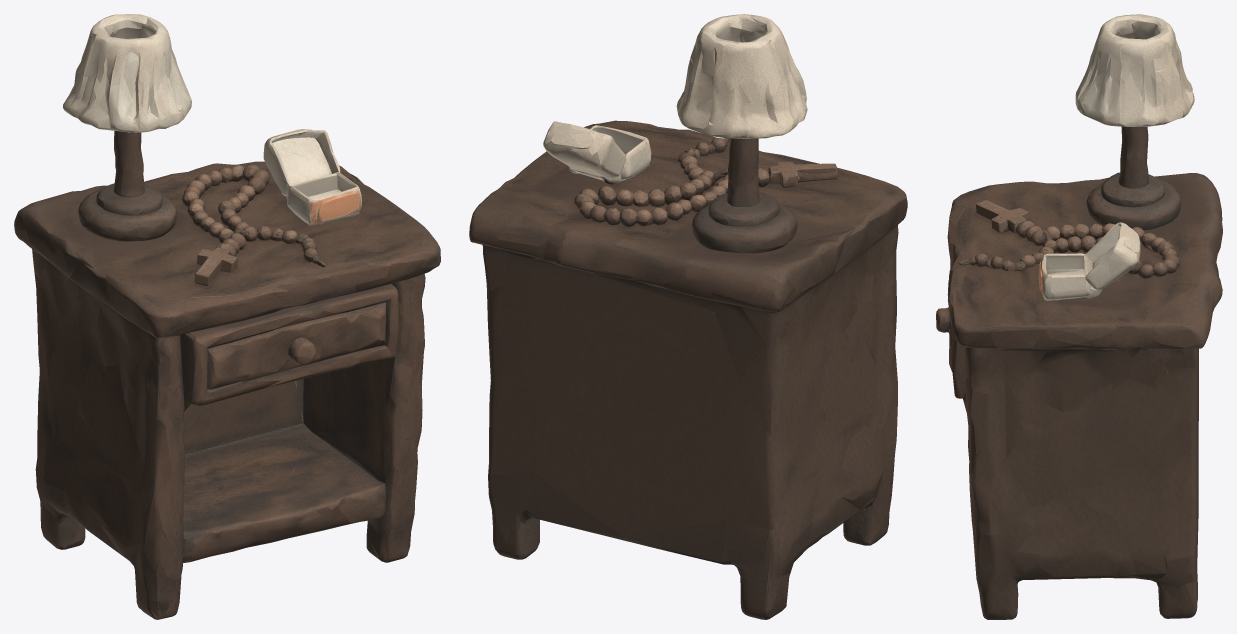
The model's file is comodino.glb.
3 views of the same model, side by side, from view 1: azimuth 30°, elevation 25°; view 2: azimuth 150°, elevation 25°; view 3: azimuth 270°, elevation 25° (orthographic). The views are drawn at different scales.
Visible parts, largest first — view 1: Mesh_0; view 2: Mesh_0; view 3: Mesh_0.
Part boxes in pixels (box(x1,y1,x2,y2)): Mesh_0: box(14, 14, 440, 619); Mesh_0: box(469, 14, 907, 619); Mesh_0: box(936, 14, 1222, 619).
Size of the model in its own units: 1.16 by 1.9 by 0.9855.
Materials: 1 (1 with a texture image).
